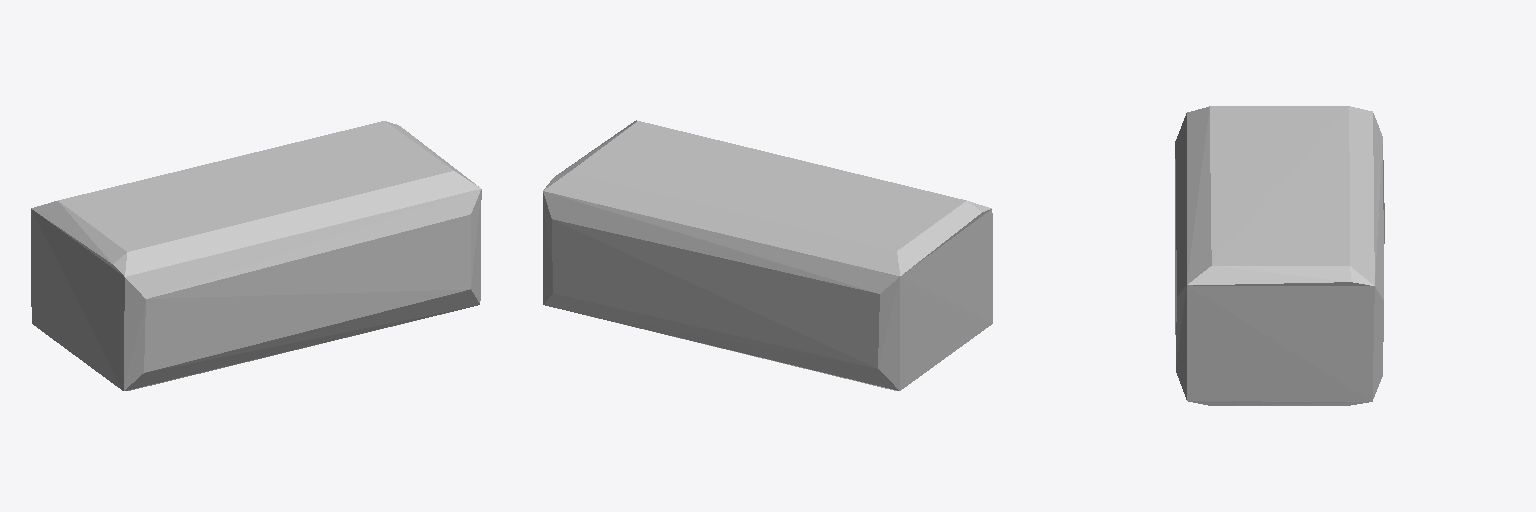
Rendered from block_decimated_convex.obj.
3 renders of one model, left to right at view 1: azimuth 30°, elevation 25°; view 2: azimuth 150°, elevation 25°; view 3: azimuth 270°, elevation 25°, orthographic.
Parts seen in each view (by area): view 1: my_mesh_block.001; view 2: my_mesh_block.001; view 3: my_mesh_block.001.
Boxes of the visible parts, x1,y1,x2,y2 form: my_mesh_block.001: [31, 121, 481, 390]; my_mesh_block.001: [543, 120, 992, 390]; my_mesh_block.001: [1175, 106, 1384, 405].
Size of the model in its own units: 50.16 by 18.83 by 25.42.